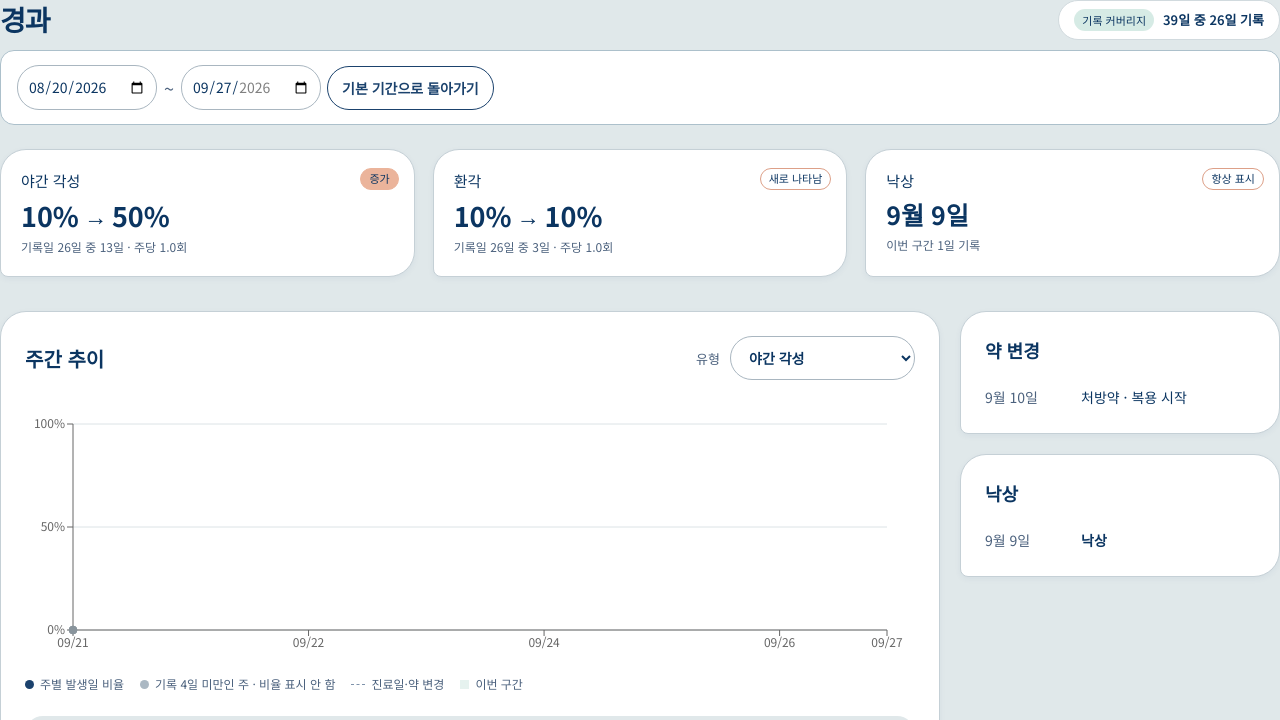
근거 팝업에서 조회 실패를 재시도하고 같은 유형과 경과 결과를 유지한다
Click the button with aria-label "야간 각성, 기준 10%".
click(51, 181)  # box [0,149,415,278]
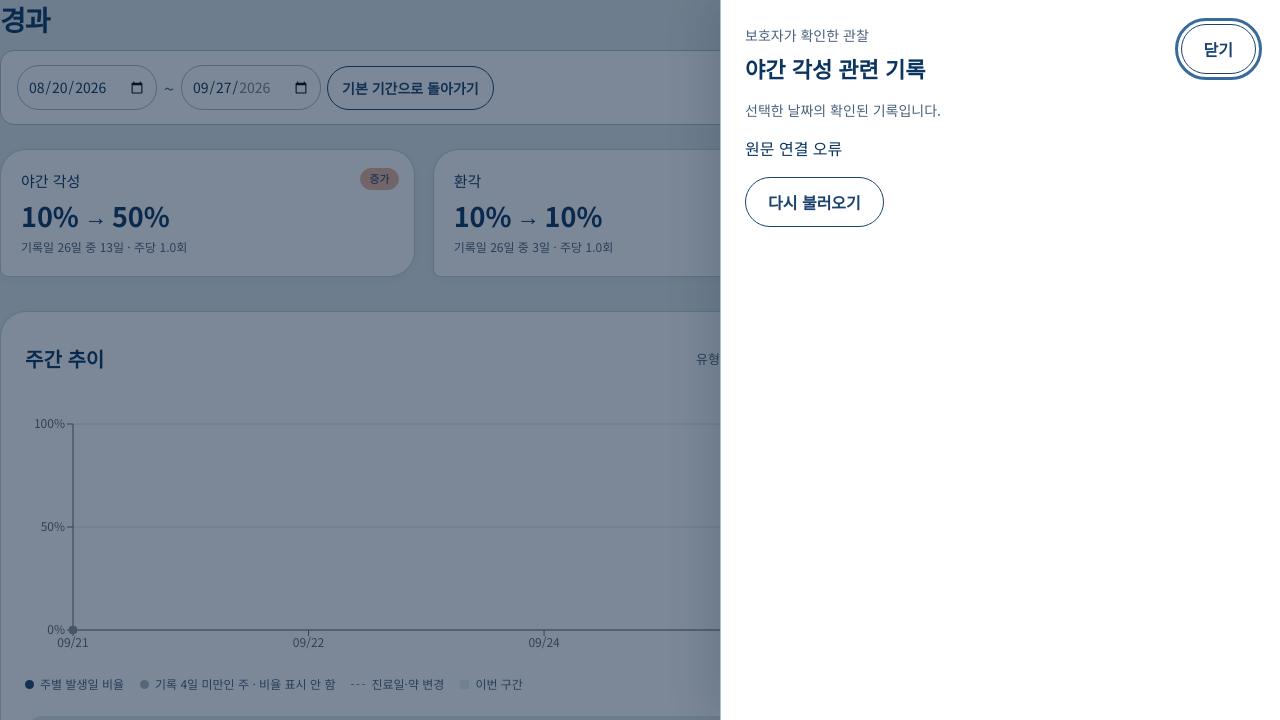
Expected: the message "원문 연결 오류 다시 불러오기" is shown, [745,136,884,228]
Click the button "다시 불러오기".
click(814, 202)  # box [745,178,884,228]
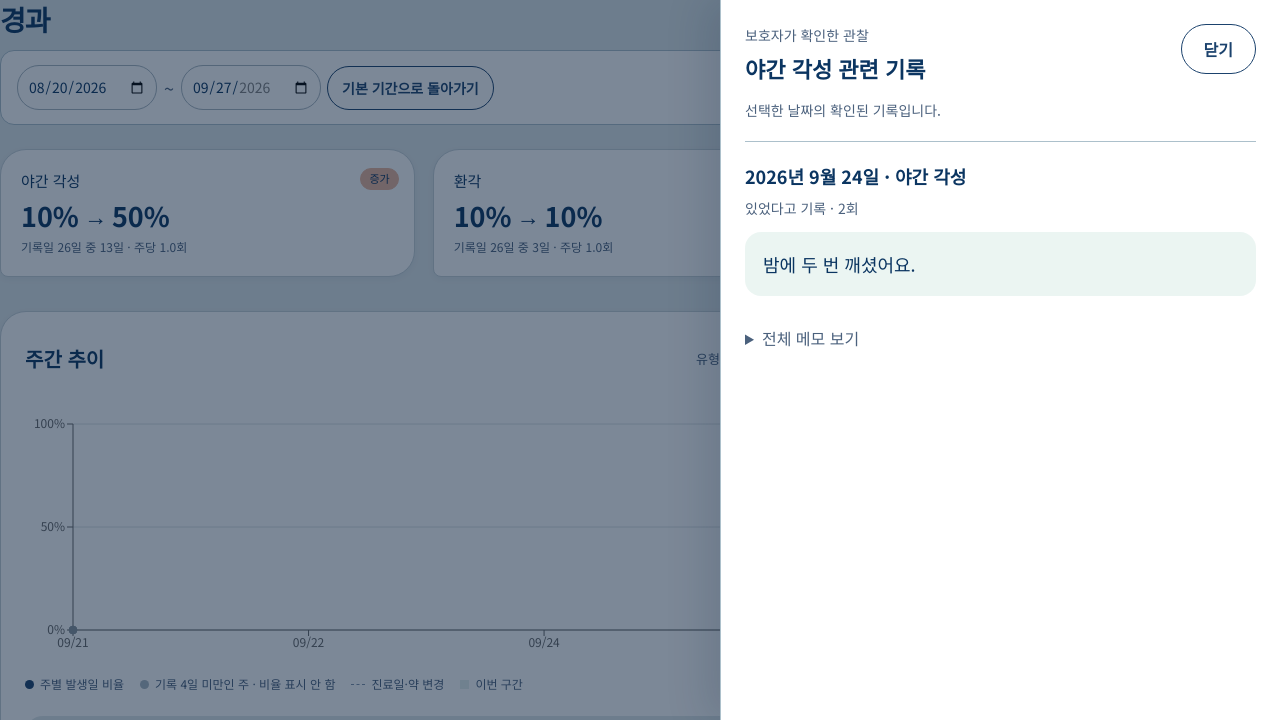
Expected: the heading "2026년 9월 24일 · 야간 각성" is shown, [745,163,966,189]
Expected: the text "밤에 두 번 깨셨어요." is shown, [745,232,1256,296]
